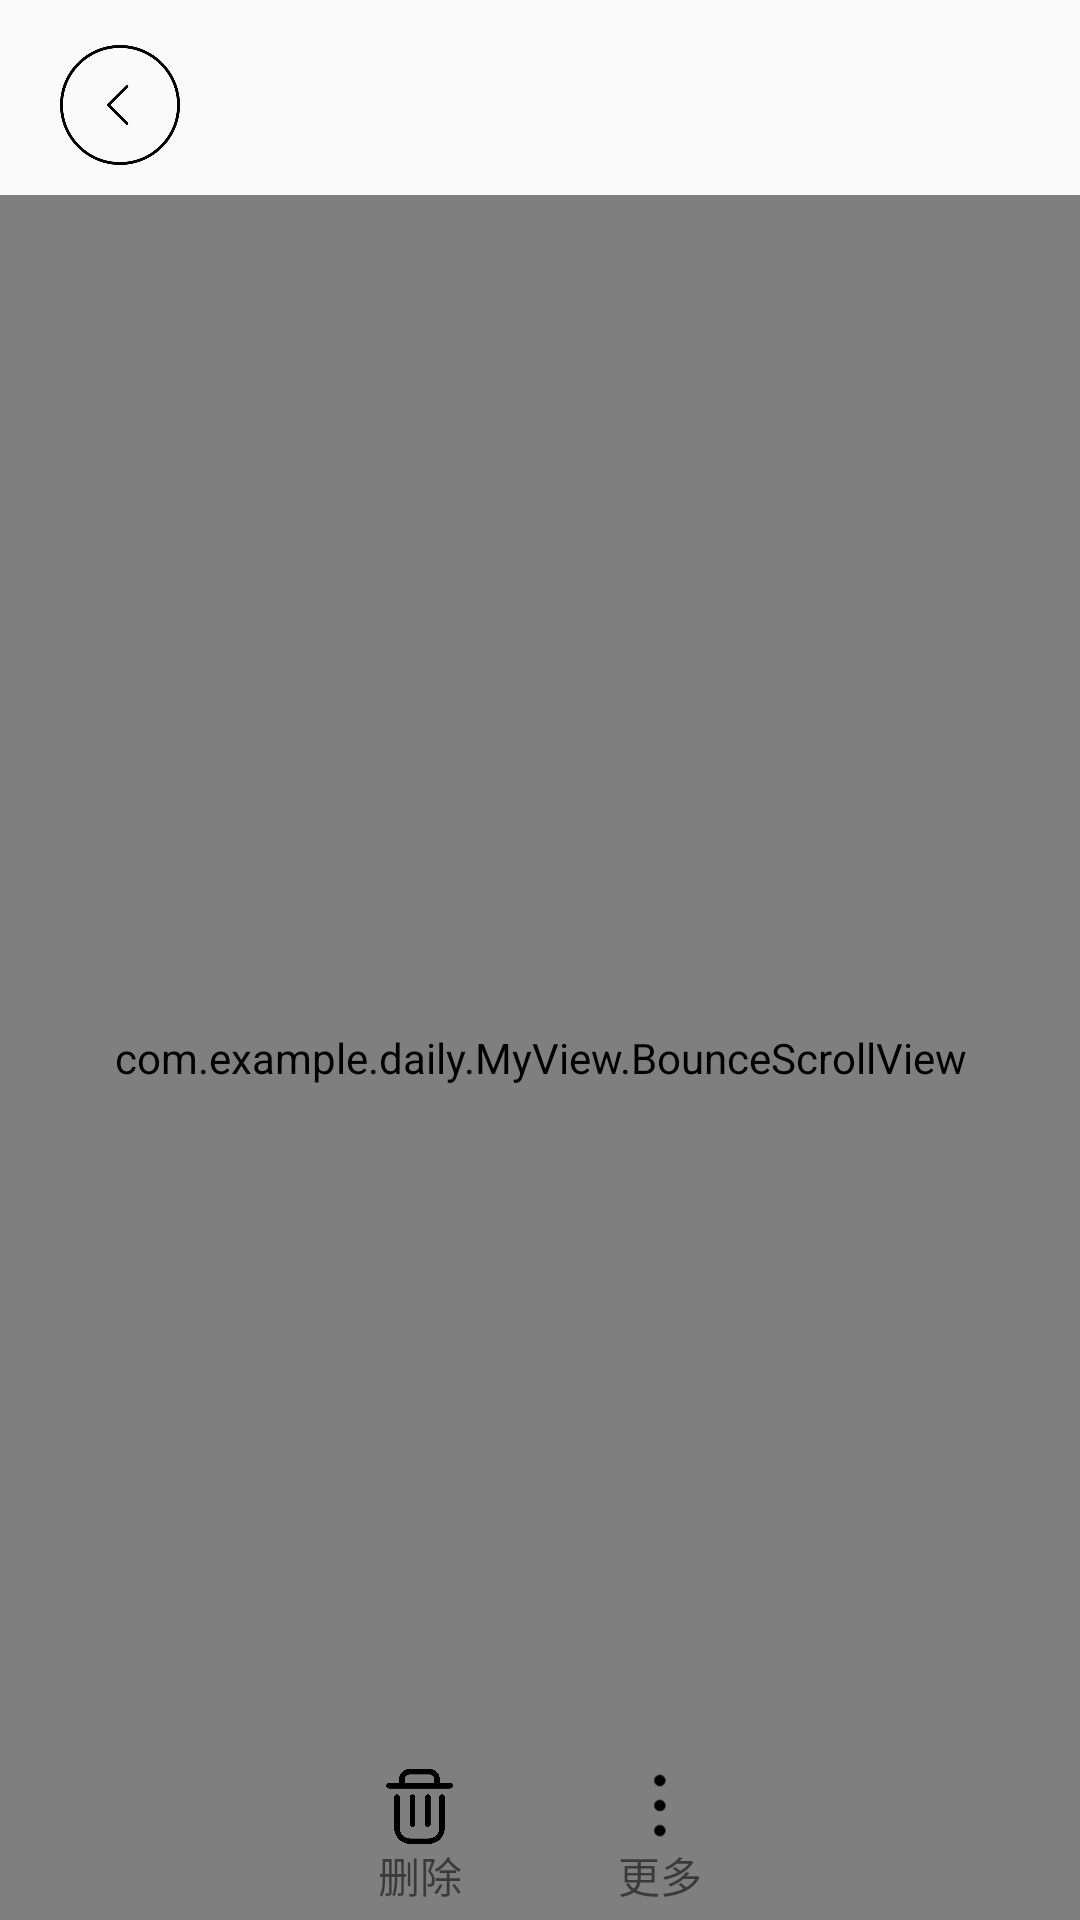

Locate icon controls on the screen. Image size 1080w x 1920h, boxes as box(x1, y1, x2, y2).
back: box(60, 45, 180, 165)
